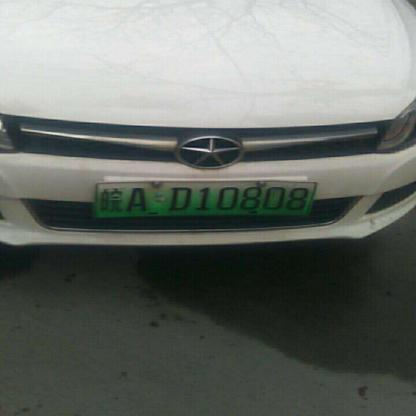lp: (96, 182, 316, 218)
